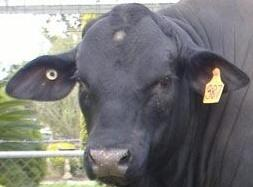muzzles: (81, 145, 142, 183)
